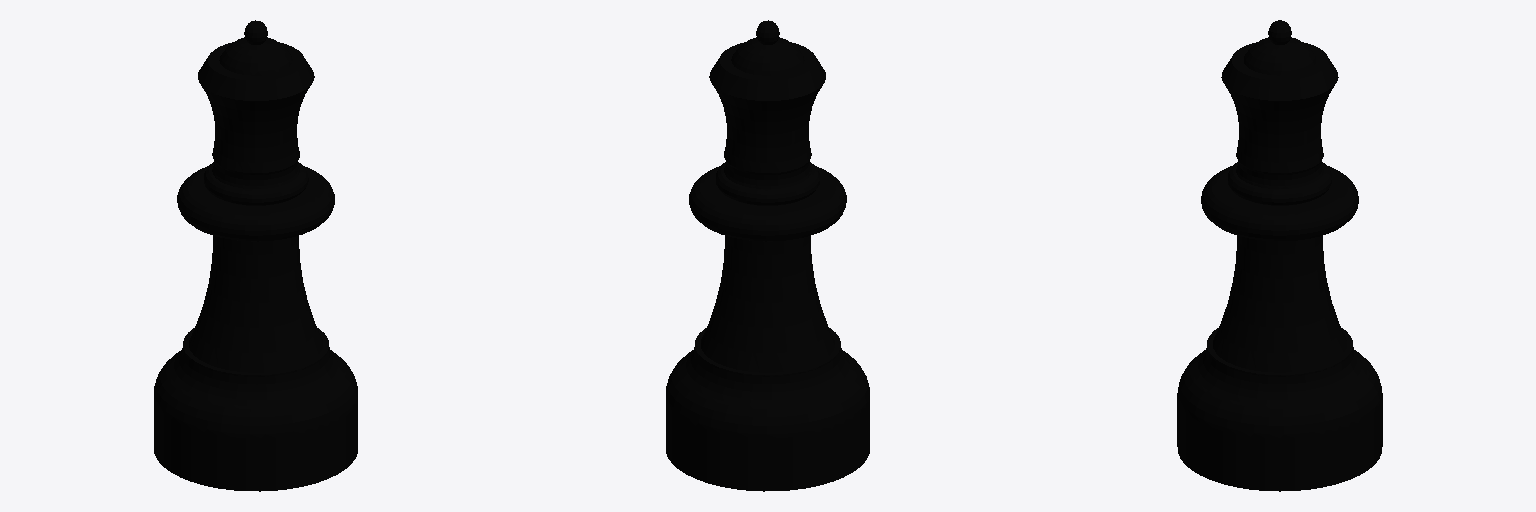
The robot description file, URDF, robot "queen":
<?xml version="1.0" ?>
<robot name="queen">

  <link name="queen__link_0">
    <inertial>
      <mass value="0.002"/>
      <origin rpy="0  0  0" xyz="0  0  0"/>
      <inertia ixx="0.145833" ixy="0" ixz="0" iyy="0.145833" iyz="0" izz="0.125"/>
    </inertial>
    
    <collision name="bishop__collision">
      <origin rpy="1.570795  0  0" xyz="0  0  0"/>
      <geometry>
        <mesh filename="package://chessRobot/models/pieces/queen/blackQueen.dae" scale="0.01 0.01 0.01"/>
      </geometry>
    <mu1 value="1.0"/>
    <mu2 value="1.0"/>
    <kp  value="10000000.0" />
    <kd  value="1.0" />
    <minDepth>0.002</minDepth>
    <maxVel>0</maxVel>  
    <dynamics damping="0.7" friction="1000" />
    </collision>
    
    <visual name="queen__visual">
      <origin rpy="1.570795  0  0" xyz="0  0  0"/>
      <geometry>
        <mesh filename="package://chessRobot/models/pieces/queen/blackQueen.dae" scale="0.01 0.01 0.01"/>
      </geometry>
    </visual>
  </link>
</robot>  

--- What the picture shows (computed from the rendered views, not written in the file) ---
The picture shows the robot from 3 angles, left to right: view 1: azimuth 30°, elevation 25°; view 2: azimuth 150°, elevation 25°; view 3: azimuth 270°, elevation 25°; orthographic projection.
Robot: queen — 1 links, 0 joints (none); root link queen__link_0; default pose: every joint at zero.
Visible links, largest first — view 1: queen__link_0; view 2: queen__link_0; view 3: queen__link_0.
Link boxes in pixels (x1,y1,x2,y2): queen__link_0: [154, 20, 357, 491]; queen__link_0: [666, 20, 869, 491]; queen__link_0: [1177, 20, 1382, 491].
Size in the robot's own frame: 0.035 by 0.035 by 0.08 metres.
Meshes: 1 distinct files referenced, 1 mesh visuals loaded (1 Collada DAE).
